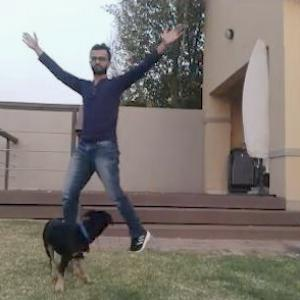takeoff: (22, 11, 192, 259)
